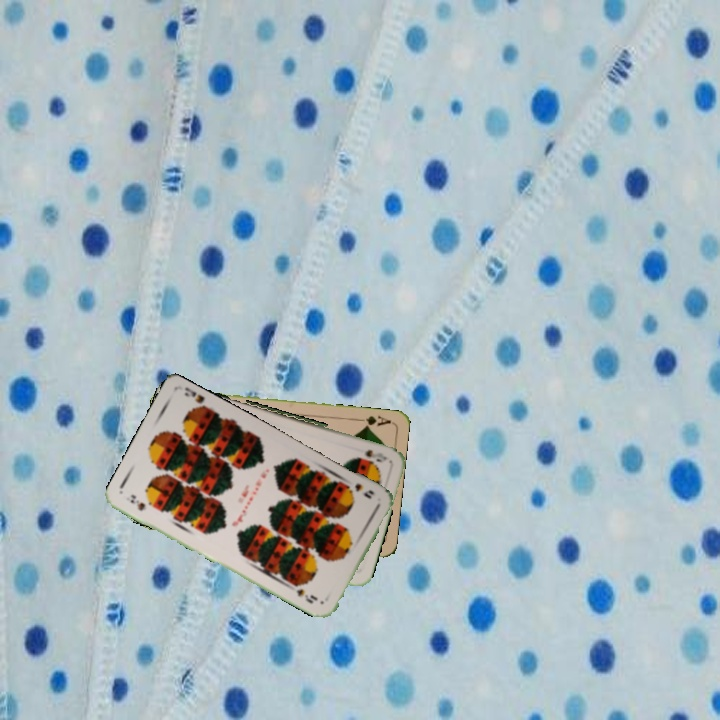GA: (353, 412, 394, 430)
S9: (340, 479, 377, 501), (126, 491, 148, 513)
SO: (361, 445, 389, 465)
